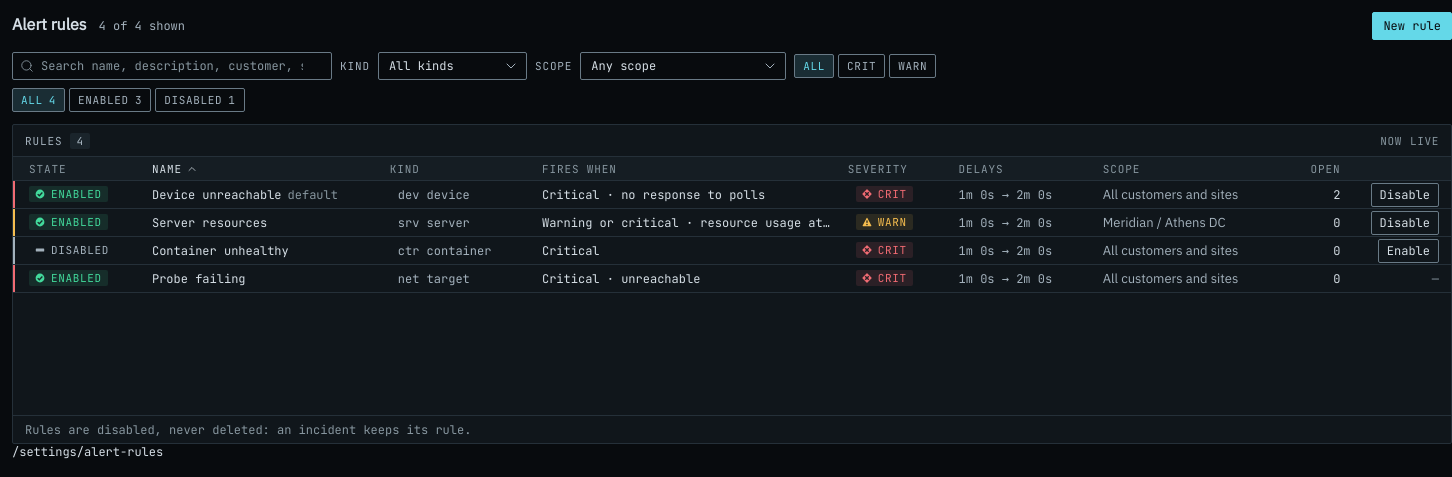
search, filters, sort and pages › filters by kind and by scope from the selects
Select "SNMP devices" in the dropdown labelled "Kind" at (452, 66), box [378,52,527,80]
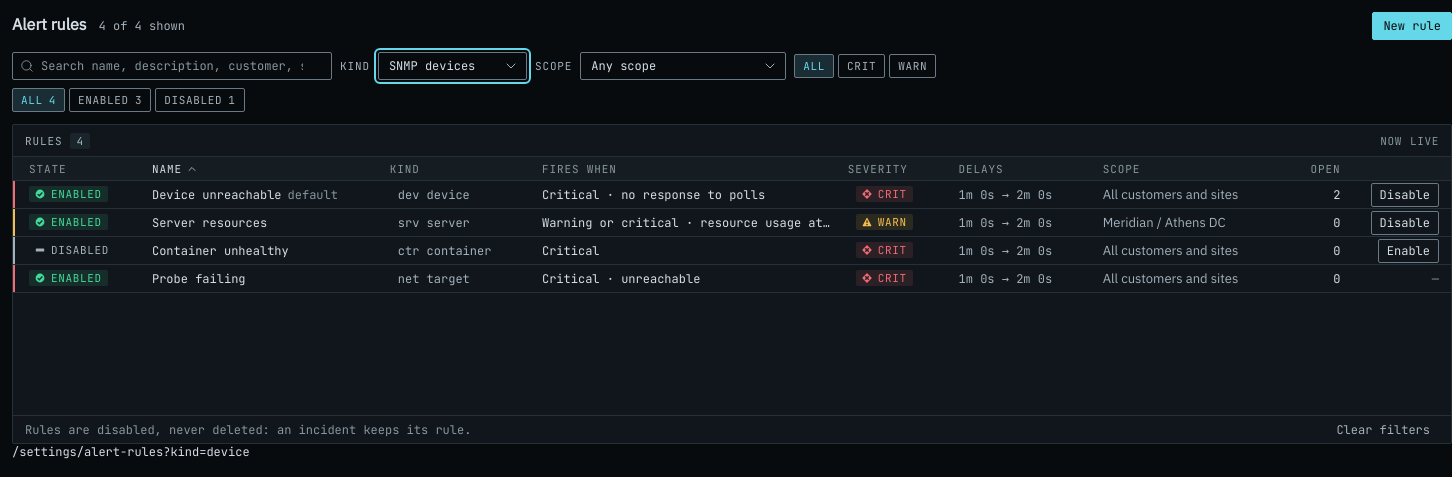
Select "One site" in the dropdown labelled "Scope" at (683, 66), box [580,52,786,80]
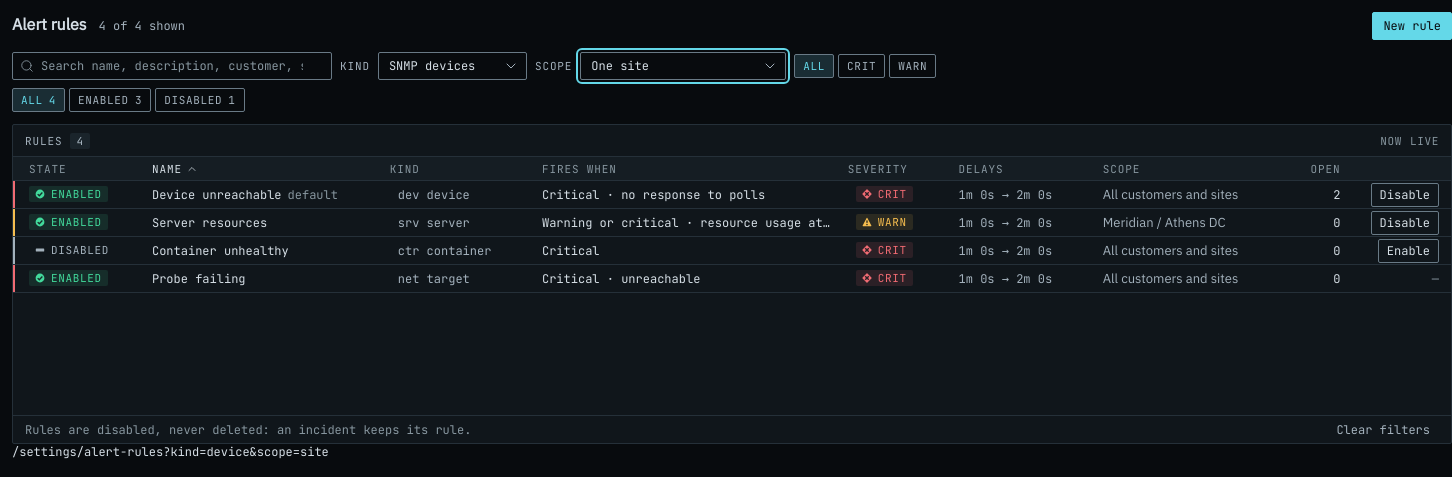
Now the text with test id "where" reads "/settings/alert-rules?kind=device&scope=site", box [12,444,329,460]
